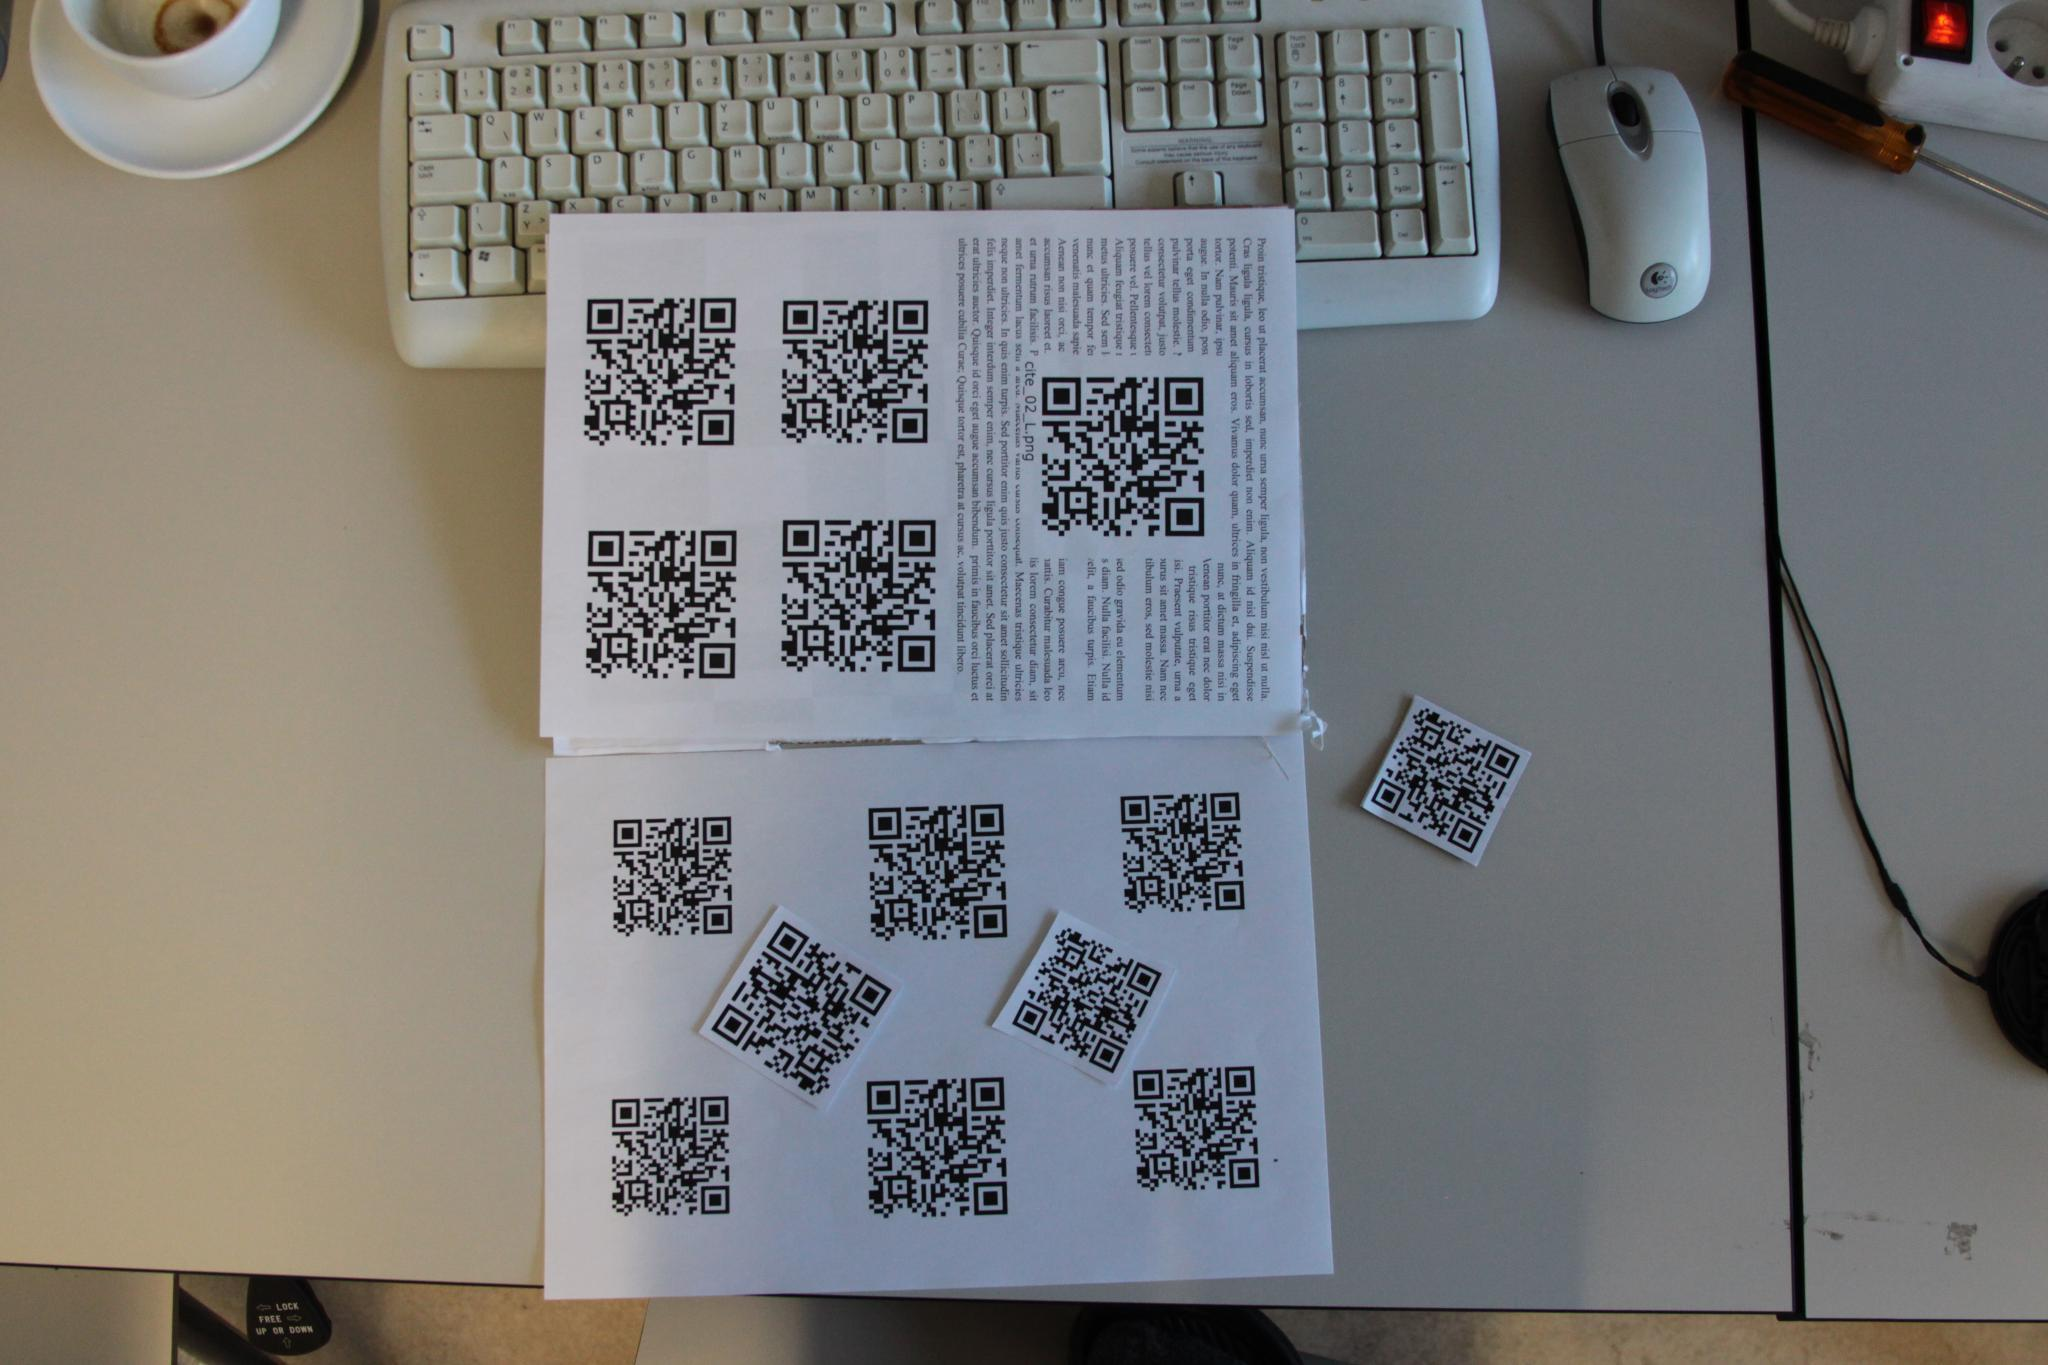Finder pattern: (1028, 364, 1093, 428), (1154, 487, 1220, 548), (576, 524, 640, 577), (691, 631, 745, 693), (691, 521, 748, 579), (1156, 366, 1211, 424), (888, 628, 950, 678), (691, 401, 748, 456), (961, 800, 1023, 847), (1081, 1033, 1136, 1085), (891, 513, 943, 567), (774, 518, 828, 568), (968, 1170, 1023, 1220), (1204, 868, 1253, 925), (964, 899, 1022, 946), (959, 1069, 1017, 1117), (761, 919, 821, 964), (859, 801, 912, 852), (579, 292, 633, 341), (1113, 957, 1172, 999), (1477, 734, 1526, 786), (889, 401, 938, 452), (693, 291, 745, 338), (860, 1076, 914, 1121), (691, 1175, 745, 1220), (697, 894, 746, 941), (848, 970, 897, 1018), (891, 292, 939, 340), (1369, 774, 1415, 821), (1204, 785, 1252, 830), (606, 814, 655, 858), (1005, 996, 1054, 1041), (1223, 1152, 1271, 1194), (1220, 1056, 1262, 1103), (708, 1002, 758, 1042), (775, 296, 825, 335), (1447, 814, 1488, 861), (605, 1089, 646, 1135), (694, 1086, 734, 1129), (1118, 789, 1159, 829), (1130, 1065, 1168, 1108), (694, 814, 738, 846)
